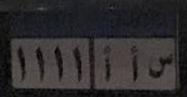1: (33, 45, 47, 82), (72, 45, 84, 82), (54, 46, 64, 80), (17, 46, 26, 79)
alif: (126, 44, 142, 81), (102, 45, 114, 84)
seen: (147, 53, 173, 77)
